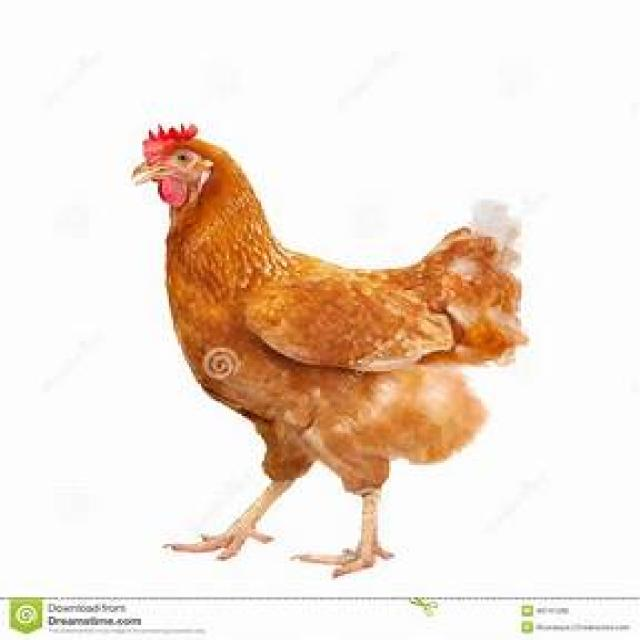hen: (129, 124, 529, 576)
